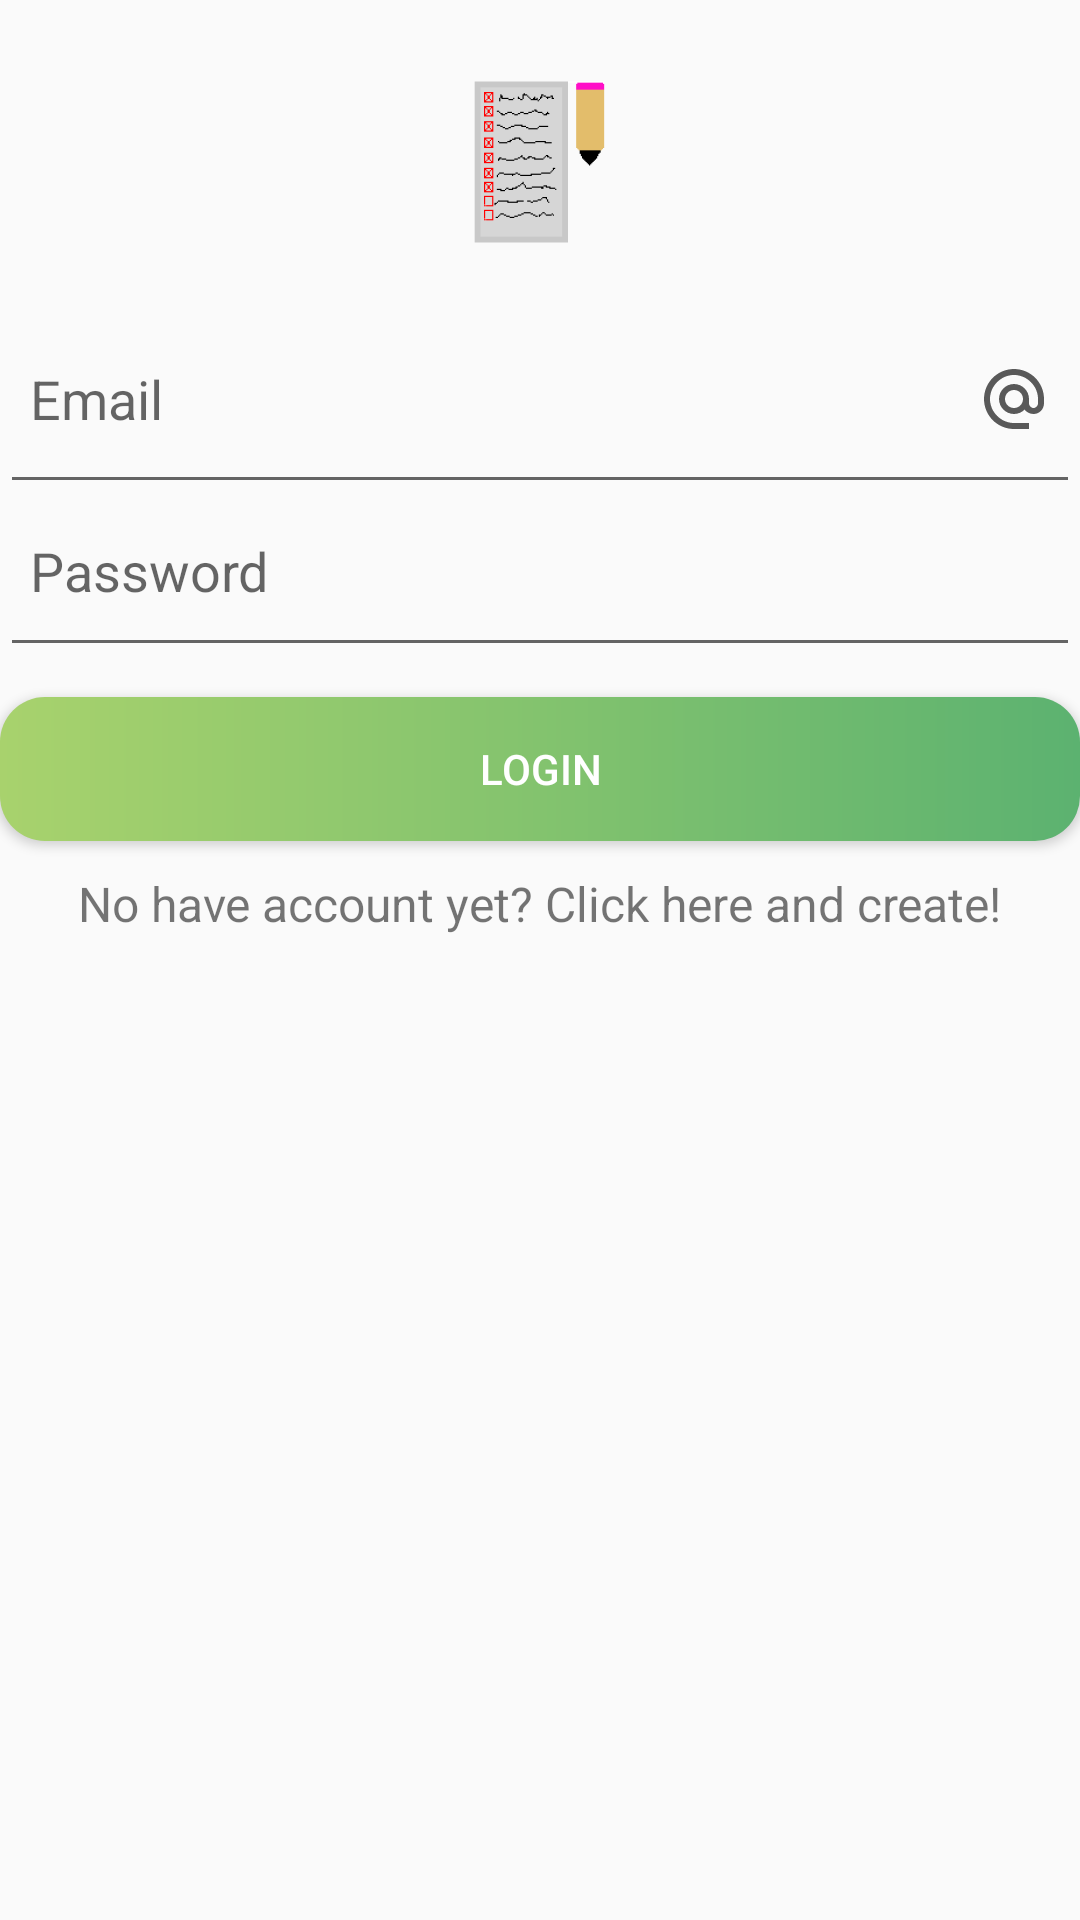

Locate icon controls on the screen. Image size 1080×1920, boxes as rect(x1, y1, x2, y2).
app: rect(475, 81, 605, 243)
